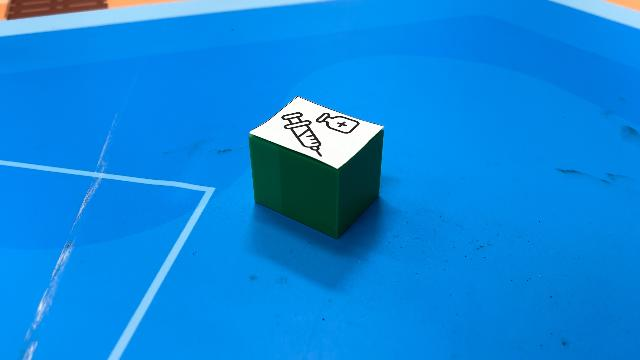syringe: (248, 95, 384, 239)
